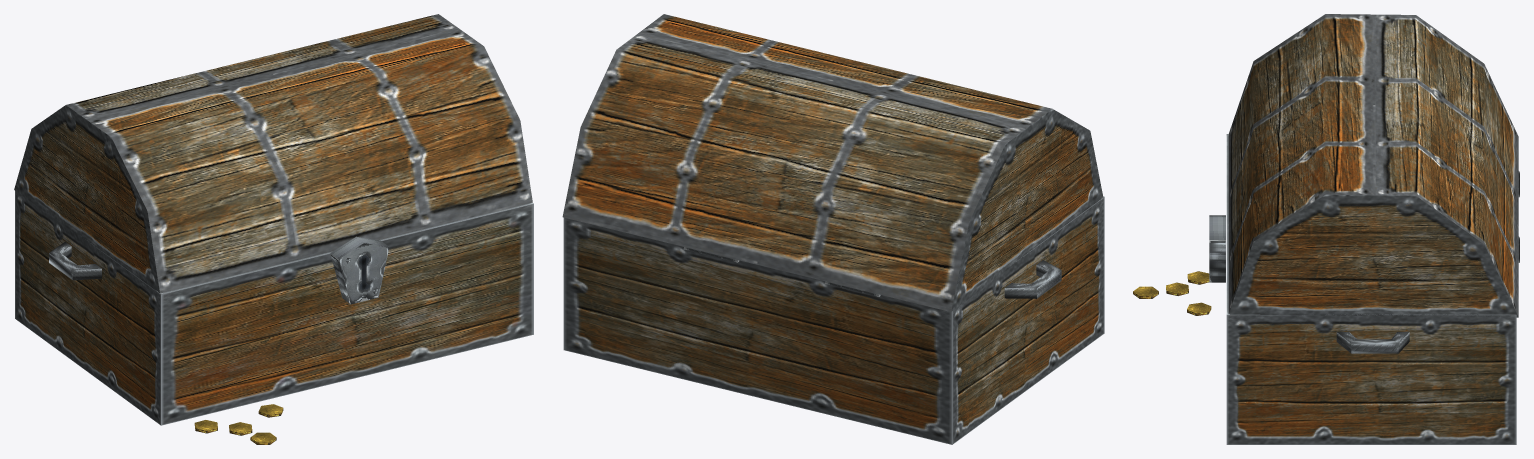
File: Baixiang.FBX
The picture shows the model from 3 angles, left to right: view 1: azimuth 30°, elevation 25°; view 2: azimuth 150°, elevation 25°; view 3: azimuth 270°, elevation 25°; orthographic projection. The views are drawn at different scales.
Parts seen in each view (by area): view 1: Object02, Treasure Chest01; view 2: Object02, Treasure Chest01; view 3: Object02, Treasure Chest01.
Part boxes in pixels (x1=…): Object02: x1=14, y1=14, x2=532, y2=293; Treasure Chest01: x1=15, y1=191, x2=533, y2=444; Object02: x1=562, y1=14, x2=1103, y2=311; Treasure Chest01: x1=563, y1=196, x2=1104, y2=444; Object02: x1=1228, y1=14, x2=1518, y2=317; Treasure Chest01: x1=1133, y1=134, x2=1519, y2=444.
Bounding box in the file's own units: 43.49 × 24.89 × 34.87.
21 materials, 21 textured.
